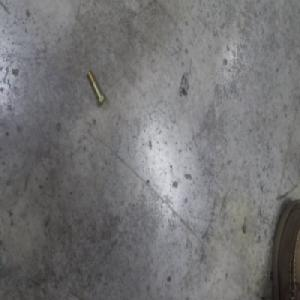Bolt: (86, 68, 106, 108)
